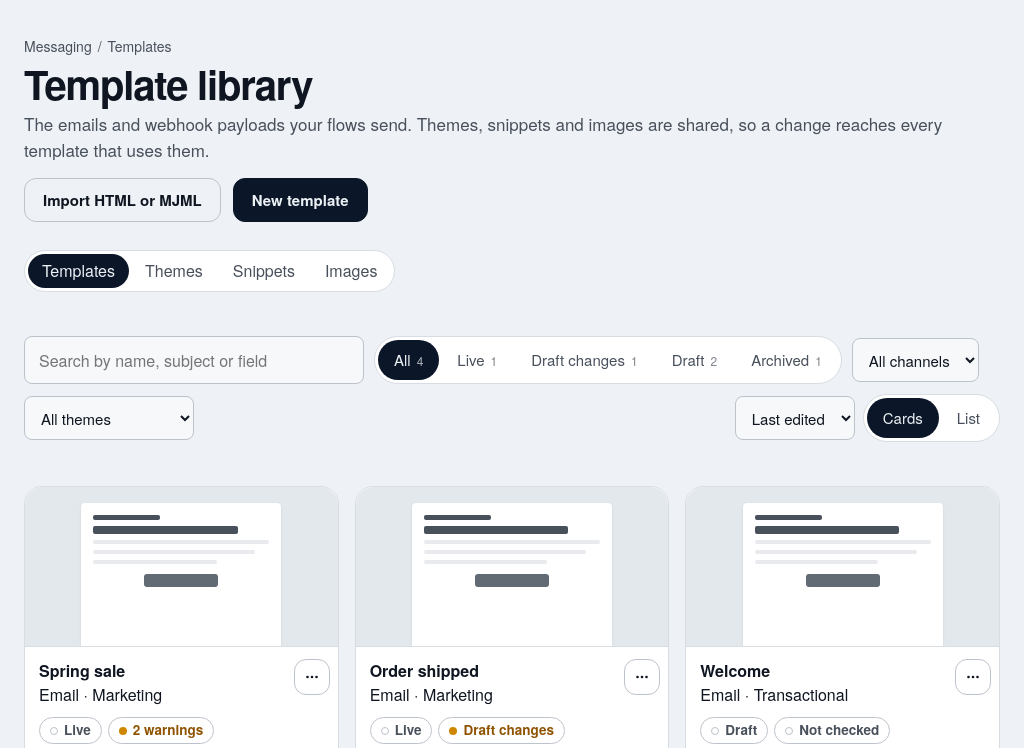
Scenario: making a template › needs a template picked before it copies one
Step 1. Click the button "New template" → (300,200), box [233,178,368,222]
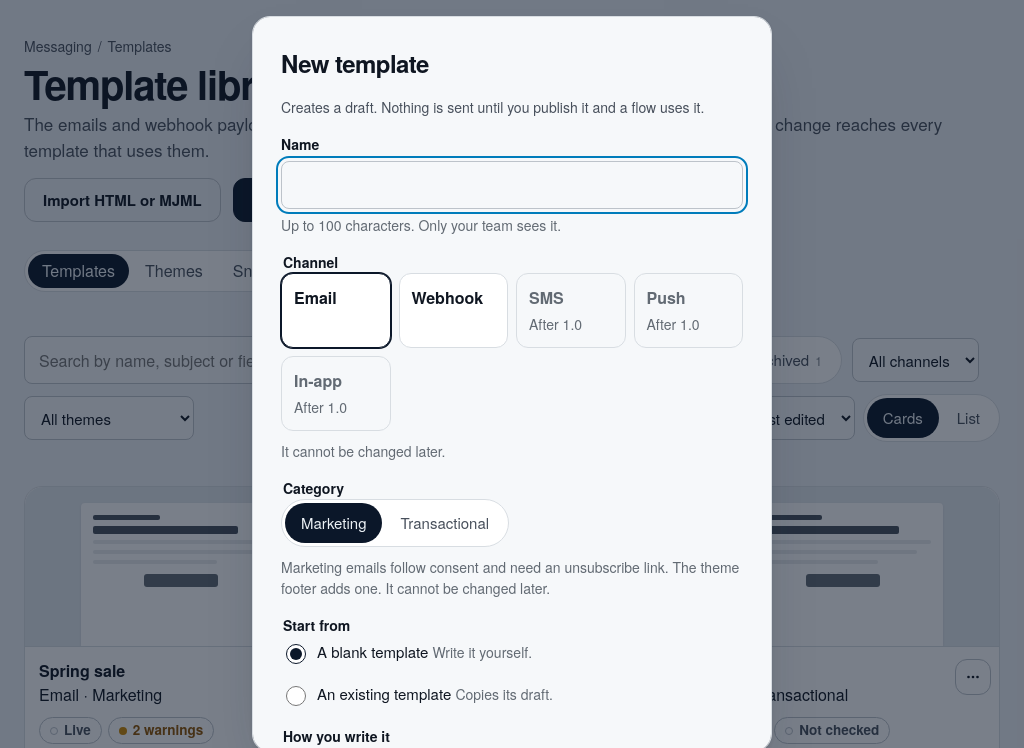
Step 2. Type "Welcome" into the field labelled "Name" → (512,185), box [281,161,743,209]
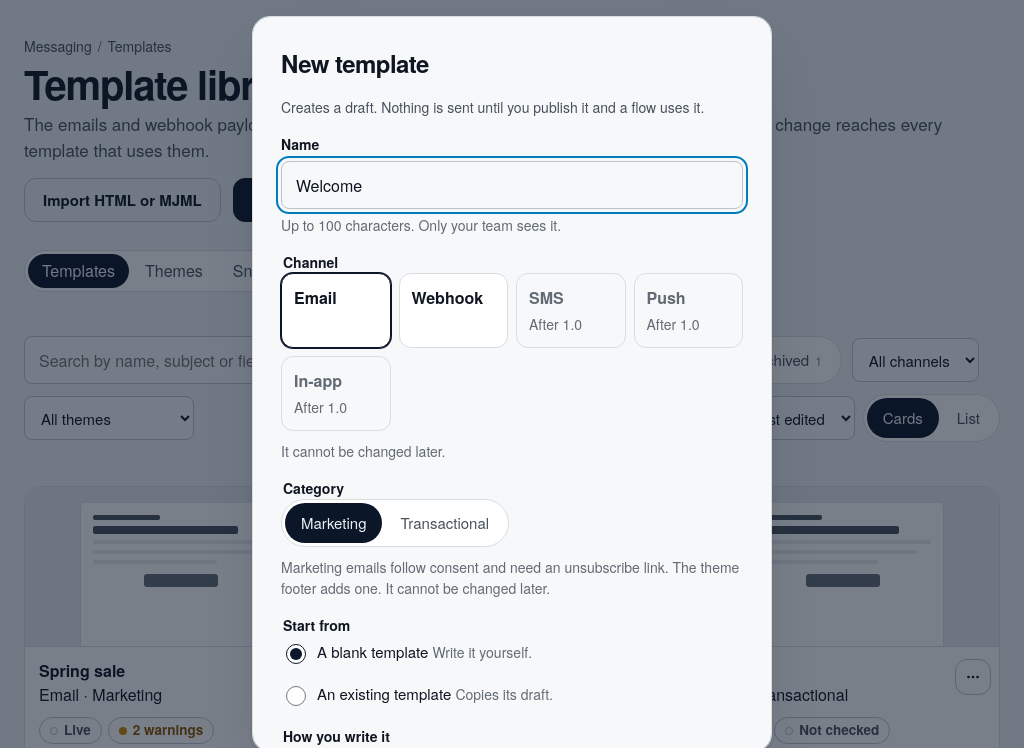
Step 3. Click the radio button labelled "An existing template Copies its draft." → (296,696), box [286,686,306,706]
(page scrolled)
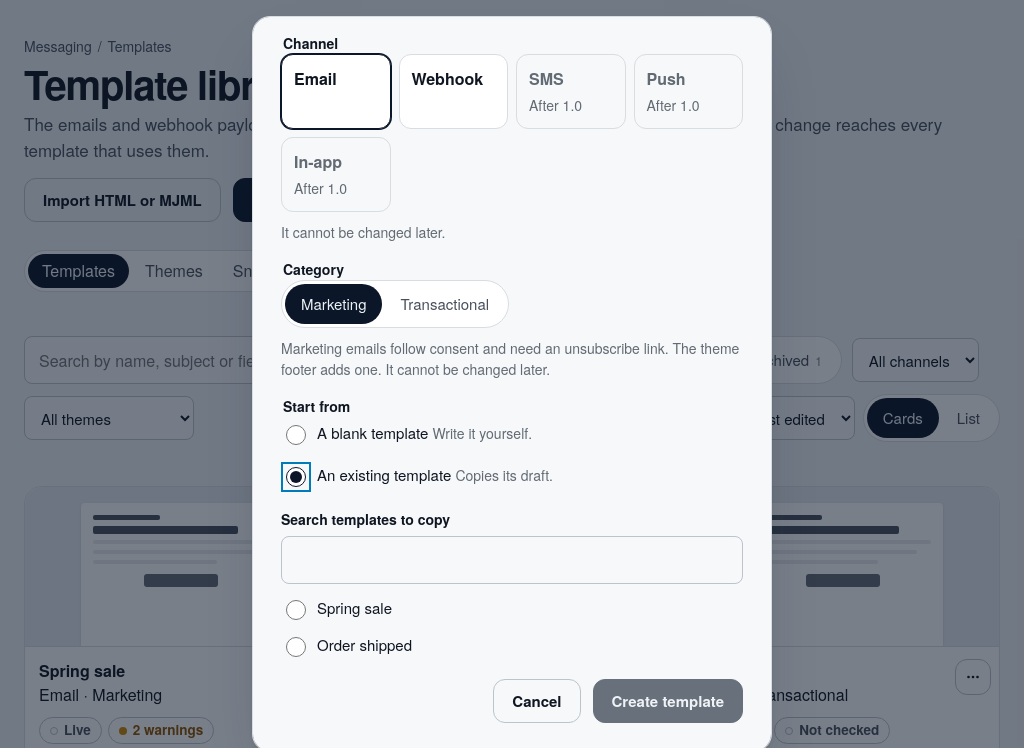
Expected: the button "Create template" is disabled, [592,679,743,723]
